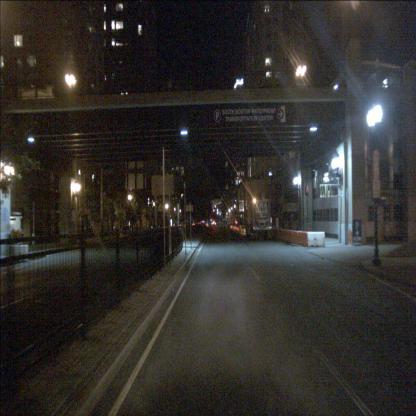barrier: (308, 231, 326, 247), (298, 231, 308, 246), (292, 231, 300, 245), (285, 230, 293, 243)
cone: (239, 225, 242, 235), (243, 228, 246, 237), (237, 226, 239, 233)
